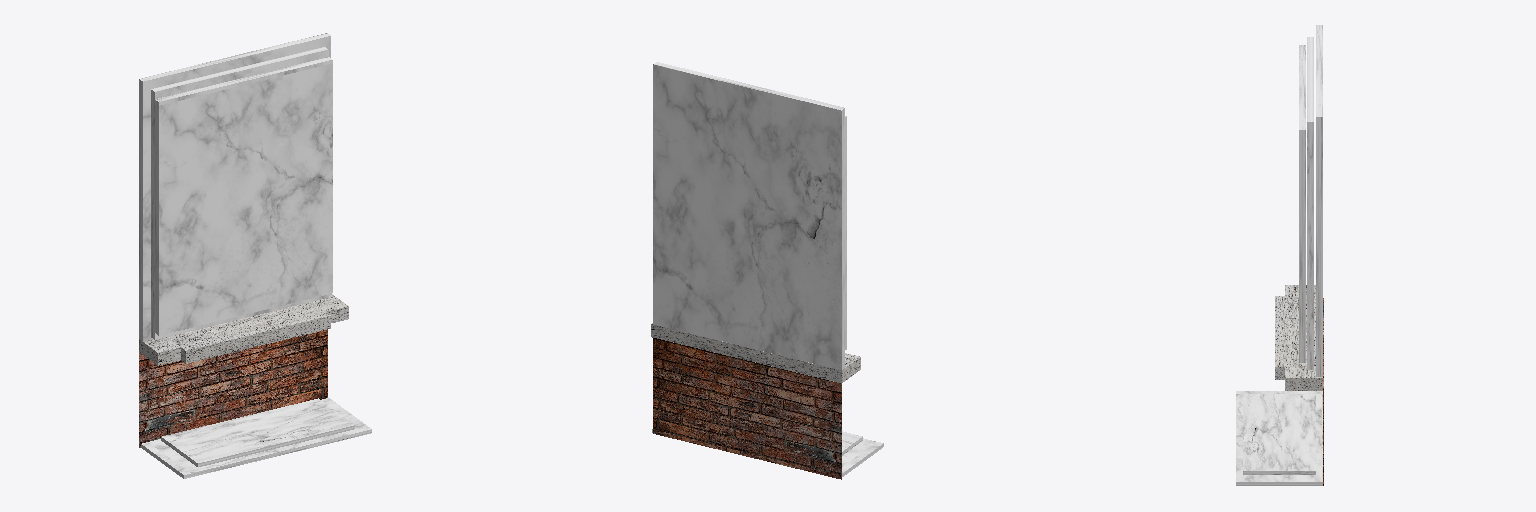
The picture shows the model from 3 angles: view 1: azimuth 30°, elevation 25°; view 2: azimuth 150°, elevation 25°; view 3: azimuth 270°, elevation 25°; orthographic projection.
Parts seen in each view (by area): view 1: pCube18; view 2: pCube18; view 3: pCube18.
Boxes of the visible parts, x1,y1,x2,y2 form: pCube18: [139, 33, 371, 478]; pCube18: [651, 62, 883, 479]; pCube18: [1236, 25, 1323, 485].
Size of the model in its own units: 5.81 by 10.73 by 2.3.
Materials: 3 (3 with a texture image).